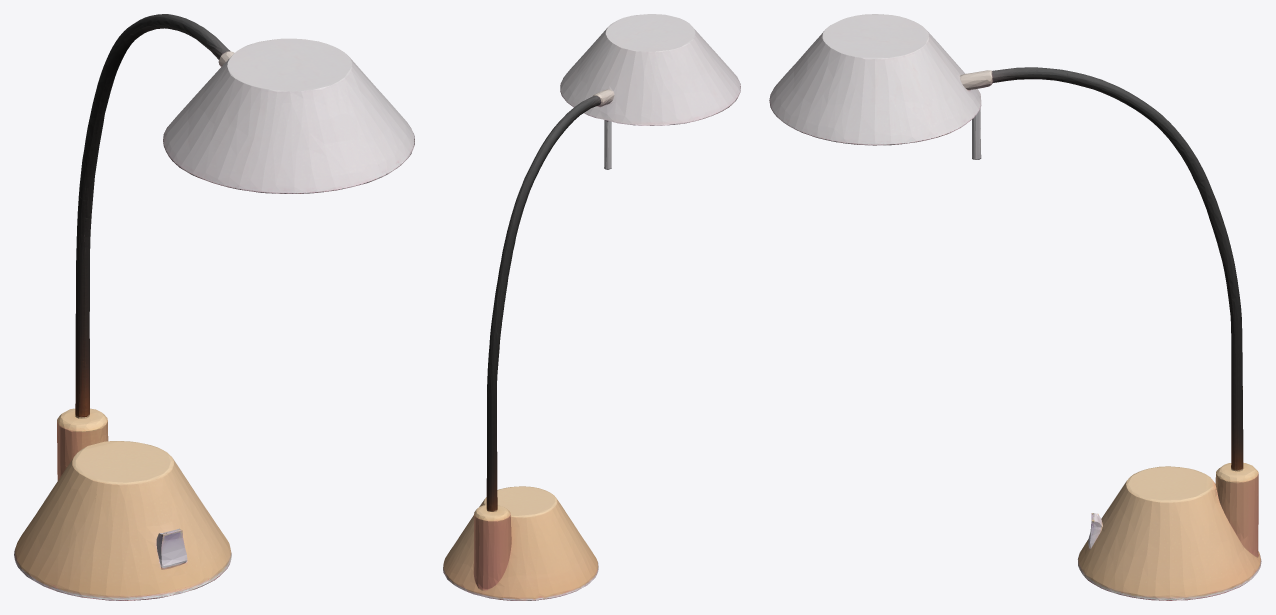
File: original_slat.glb
3 renders of one model, left to right at view 1: azimuth 30°, elevation 25°; view 2: azimuth 150°, elevation 25°; view 3: azimuth 270°, elevation 25°, orthographic. The views are drawn at different scales.
Visible parts, largest first — view 1: world; view 2: world; view 3: world.
Boxes of the visible parts, bbox=[...] form: world: bbox=[14, 14, 414, 600]; world: bbox=[443, 14, 740, 600]; world: bbox=[769, 14, 1261, 600].
Bounding box in the file's own units: 0.2707 × 0.7339 × 0.6258.
Materials: 1 (1 with a texture image).
